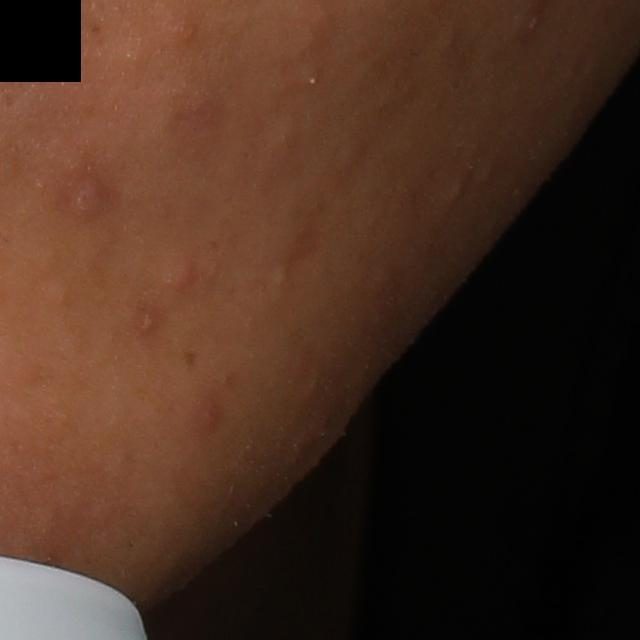comedo: (446, 175, 471, 207), (271, 259, 293, 289)
papule: (65, 176, 110, 219), (160, 255, 197, 300)
